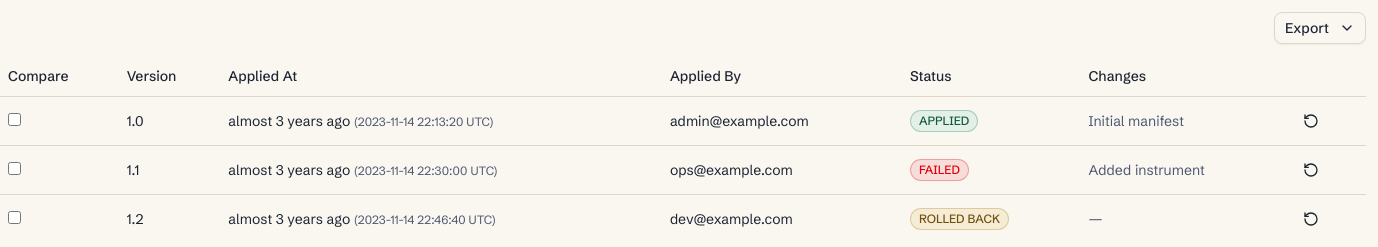
Test: ManifestHistoryTable › Export › shows YAML and JSON format options in dropdown
Click the button with test id "export-button". click: (1320, 28)
box: [1274,12,1366,44]
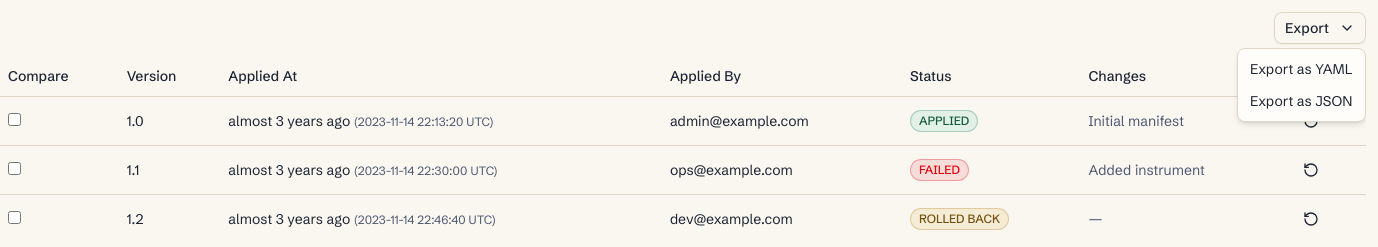
expect the menu item with test id "export-yaml" is shown: met, box [1250,60,1352,78]
expect the menu item with test id "export-json" is shown: met, box [1250,92,1352,110]
